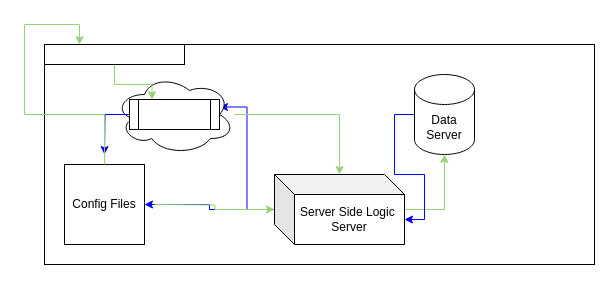
Image size: 612x282. Some labels were removed from this diagram. The shapes that lost their labels are listed below. From the top down, each one's centre as x and y in pixels, then its label:
At [114,54]: "two-layer-monolith".
At [174,114]: "UI Server".
